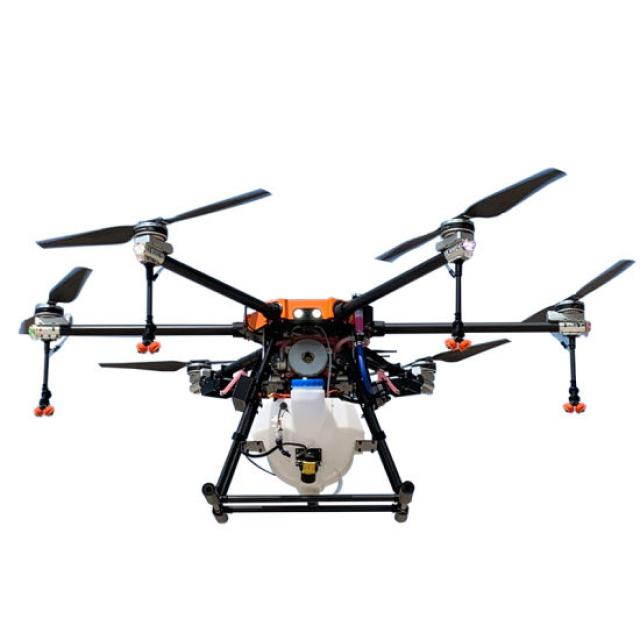drone: (0, 149, 640, 587)
